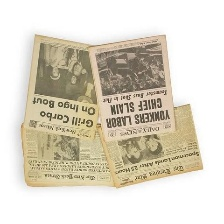news_paper: (83, 31, 180, 144), (91, 100, 205, 191), (20, 30, 104, 142), (14, 120, 117, 192)
